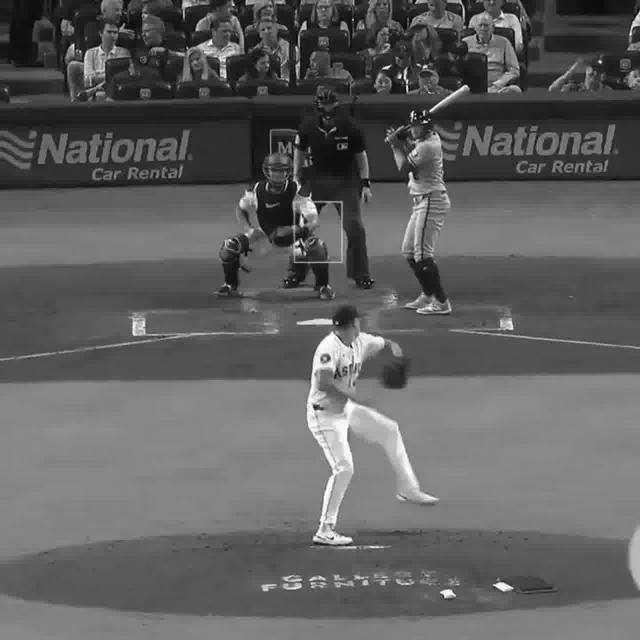base: (294, 314, 334, 331)
baseball_glove: (271, 222, 307, 248), (381, 358, 411, 388)
bat: (386, 77, 474, 147)
shoe: (396, 490, 438, 506), (310, 528, 350, 544), (418, 299, 448, 315), (408, 296, 436, 308), (316, 282, 336, 298), (216, 284, 236, 298)
